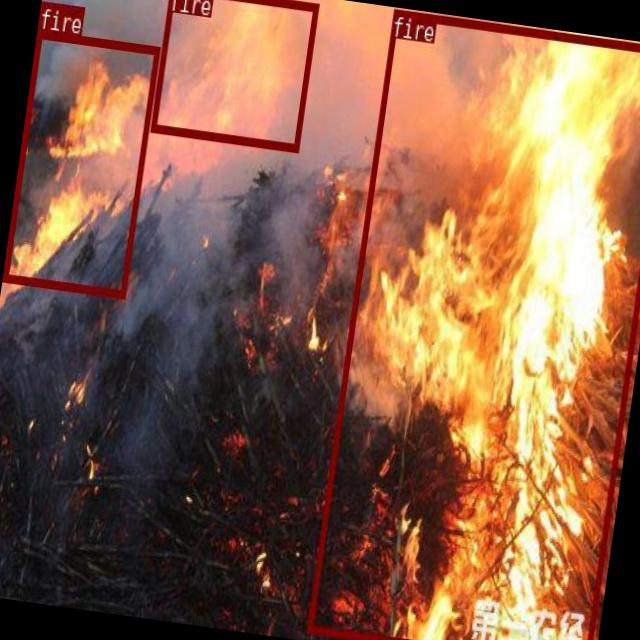fire: (306, 8, 640, 640), (2, 28, 160, 296), (150, 0, 318, 151)
